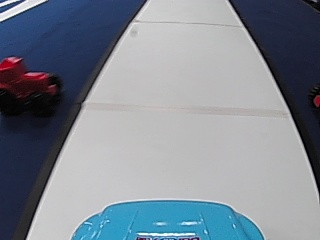tractor: (1, 55, 60, 116)
